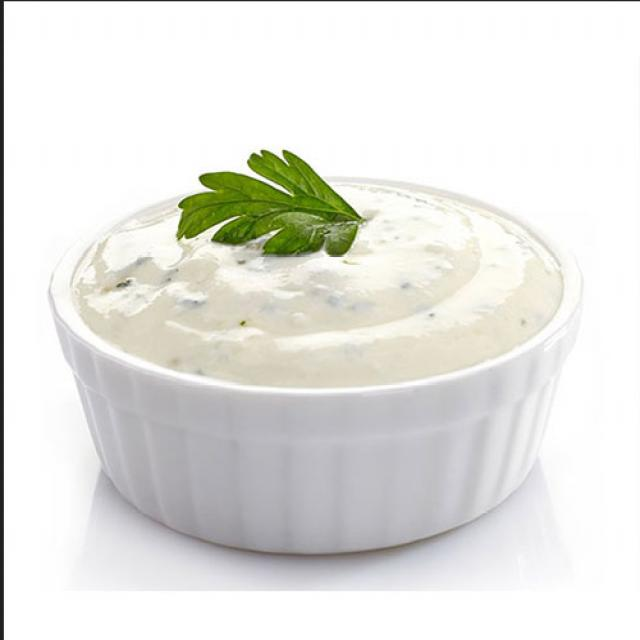yogurt: (67, 180, 560, 392)
